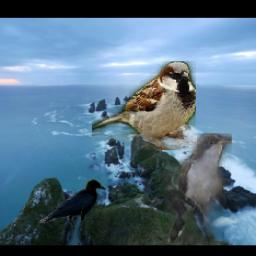Crow: (39, 180, 105, 230)
Cuckoo: (166, 134, 233, 245)
Sparrow: (93, 61, 197, 150)
